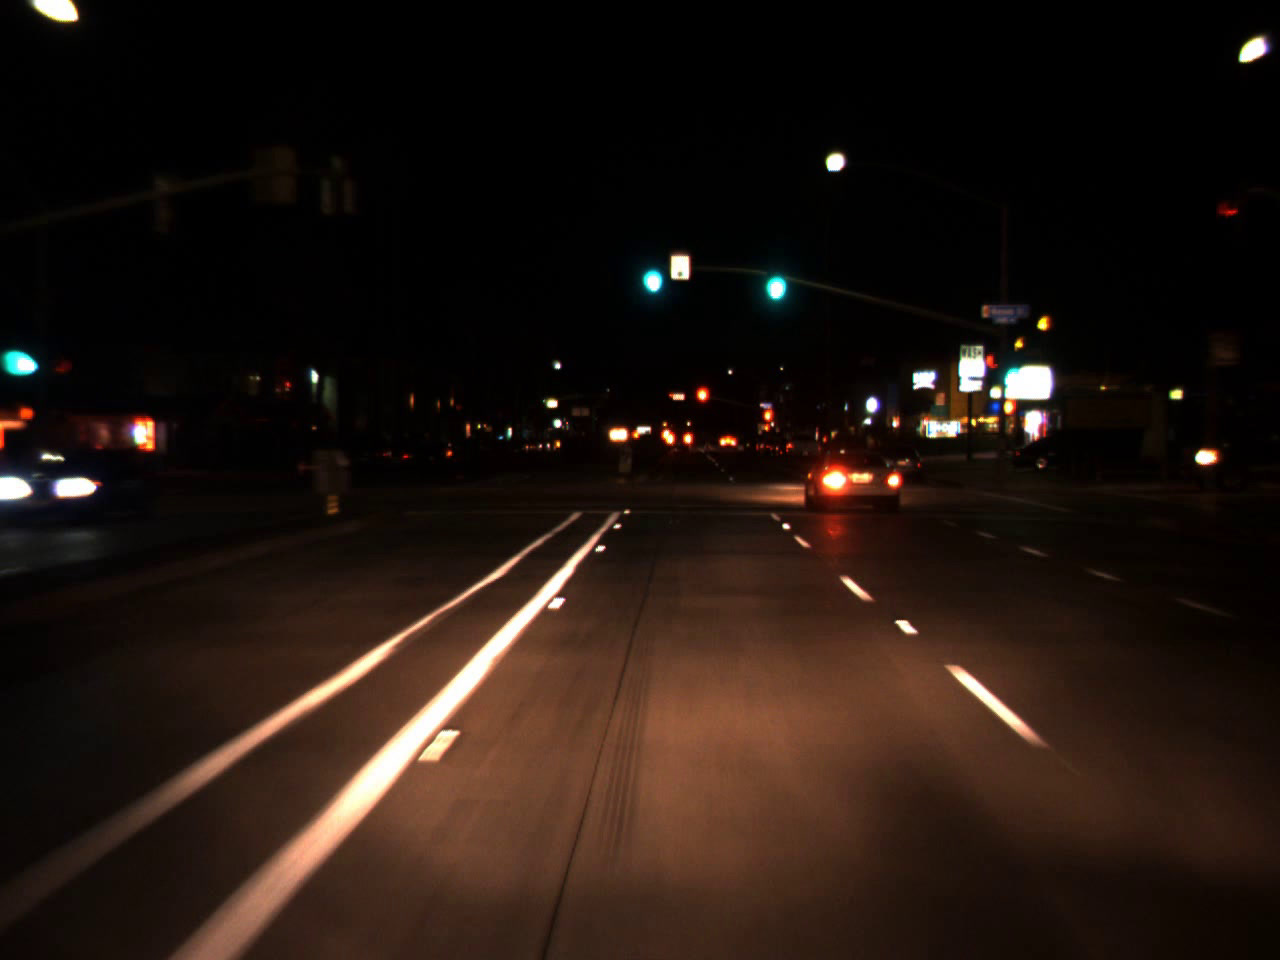go: (0, 318, 42, 384), (992, 329, 1028, 401), (635, 242, 667, 299), (757, 252, 791, 303)
stop: (694, 384, 712, 421), (763, 407, 773, 436)
